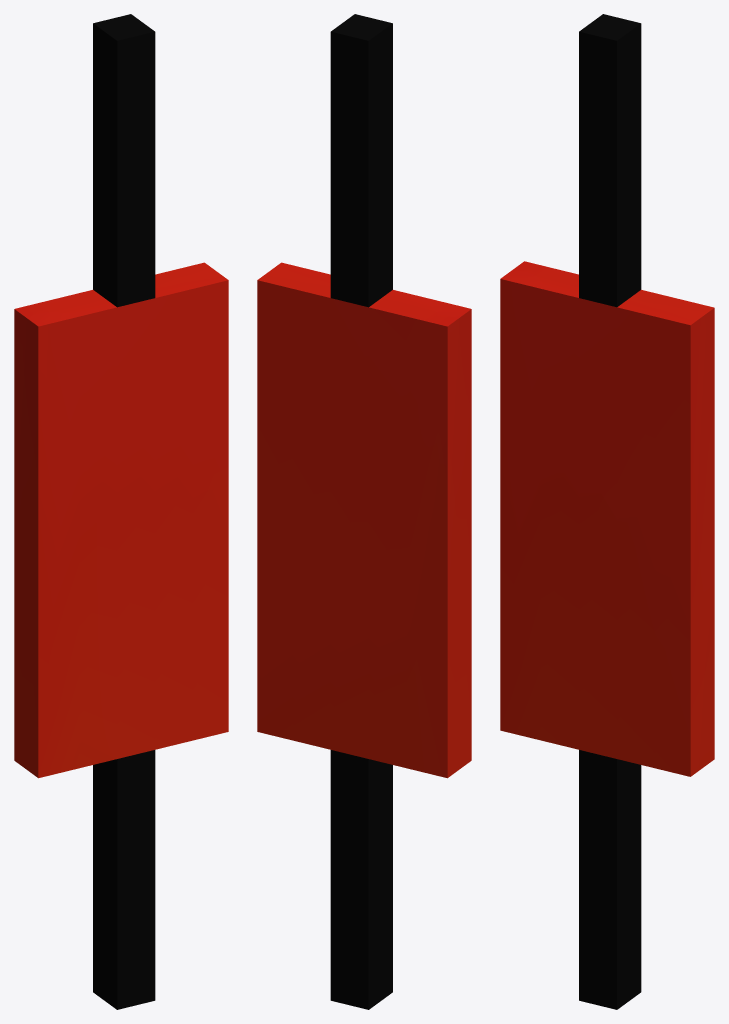
The model's file is red_candle_3.fbx.
3 views of the same model, side by side, from view 1: azimuth 30°, elevation 25°; view 2: azimuth 150°, elevation 25°; view 3: azimuth 330°, elevation 25° (orthographic).
Visible parts, largest first — view 1: Cube.008; view 2: Cube.008; view 3: Cube.008.
Part boxes in pixels (bbox=[...]): Cube.008: bbox=[14, 14, 228, 1009]; Cube.008: bbox=[257, 14, 471, 1009]; Cube.008: bbox=[500, 14, 714, 1009].
Bounding box in the file's own units: 110 × 536 × 24.17.
